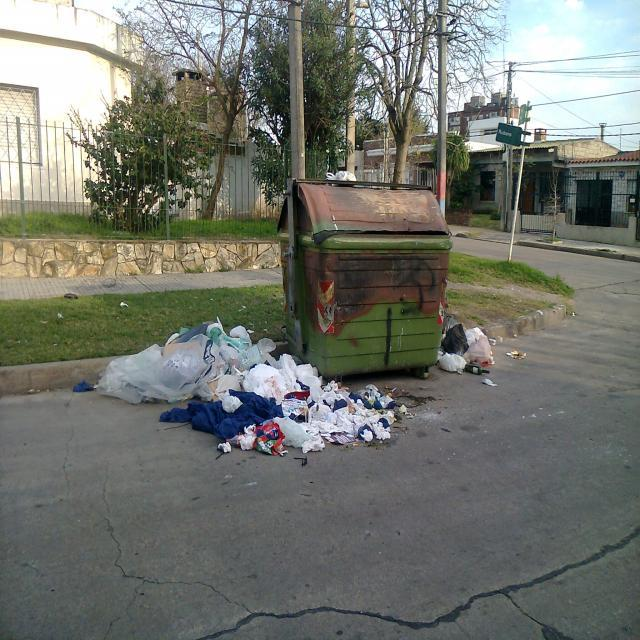garbage: (119, 326, 405, 452), (438, 312, 492, 386)
